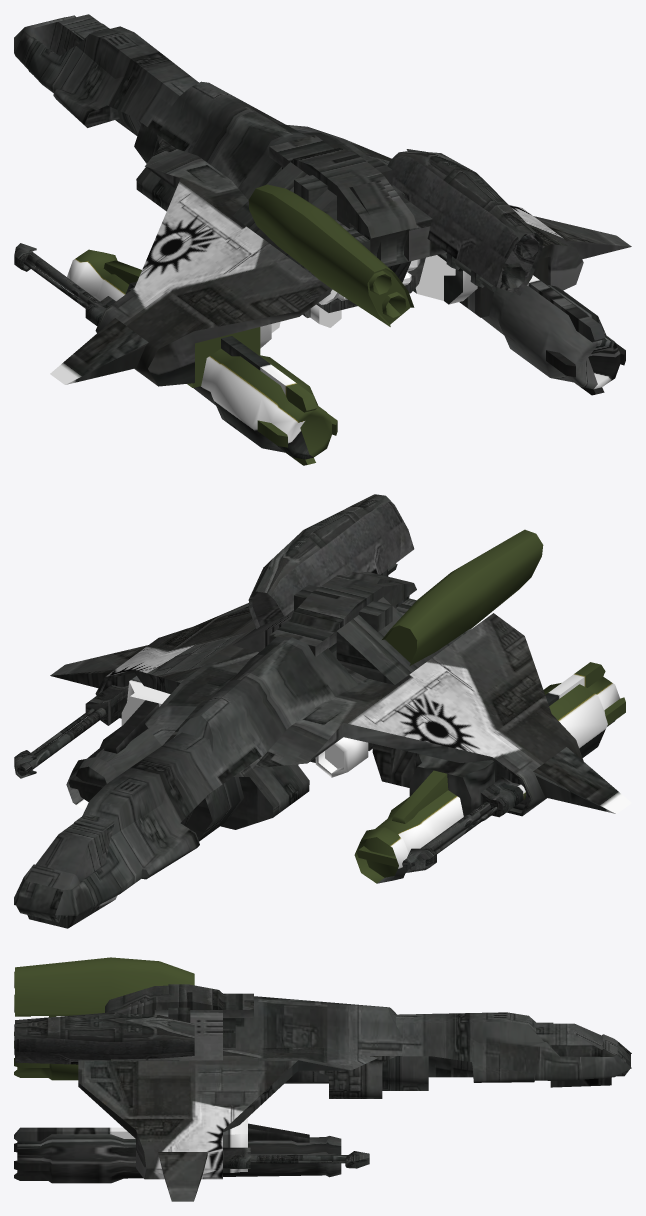
The model's file is khiraxz.obj.
3 renders of one model, top to bottom at view 1: azimuth 30°, elevation 25°; view 2: azimuth 150°, elevation 25°; view 3: azimuth 270°, elevation 25°, orthographic. The views are drawn at different scales.
Visible parts, largest first — view 1: body_02; view 2: body_02; view 3: body_02.
Part boxes in pixels (bbox=[...]): body_02: bbox=[14, 14, 631, 465]; body_02: bbox=[14, 494, 631, 928]; body_02: bbox=[14, 957, 631, 1201].
Size of the model in its own units: 2.57 by 0.8517 by 3.3.
